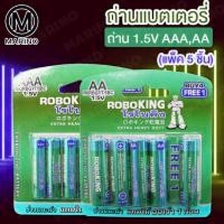battery: (105, 133, 132, 210), (88, 135, 114, 208), (178, 132, 201, 211), (127, 136, 151, 211), (147, 134, 168, 210), (43, 134, 66, 202), (61, 133, 82, 203), (27, 132, 48, 202)
